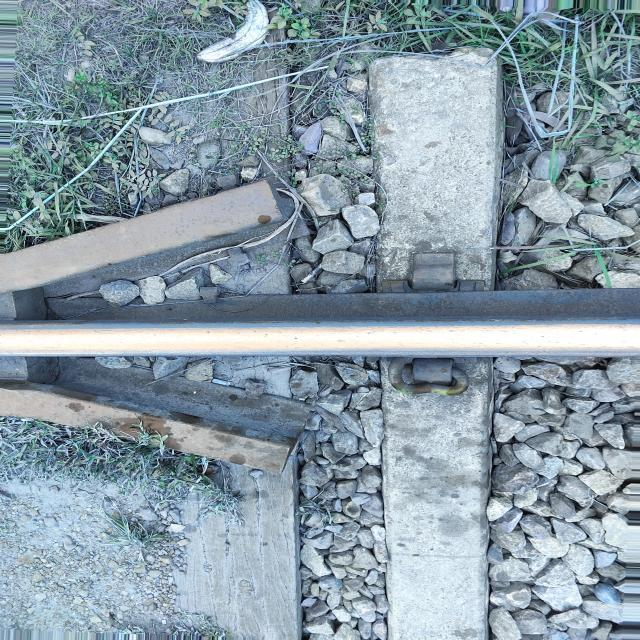Good Fasteners: (386, 365, 470, 405)
Missing Fastener: (401, 252, 466, 294)
